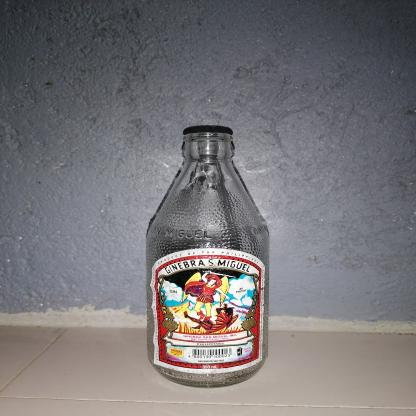Can: (143, 131, 272, 390)
